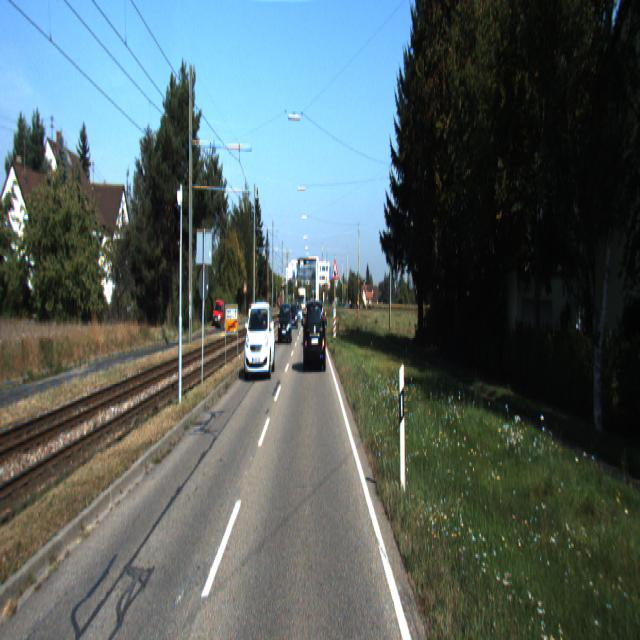Car: (244, 300, 276, 380), (304, 297, 326, 372), (278, 304, 292, 346), (289, 302, 299, 329)
